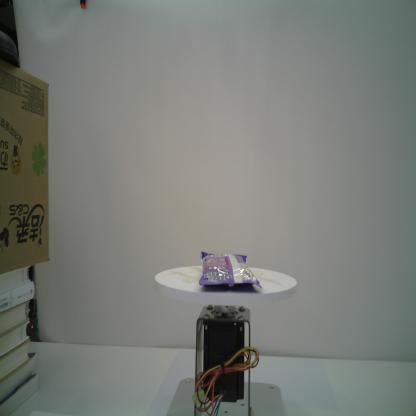Candy: (199, 251, 262, 289)
